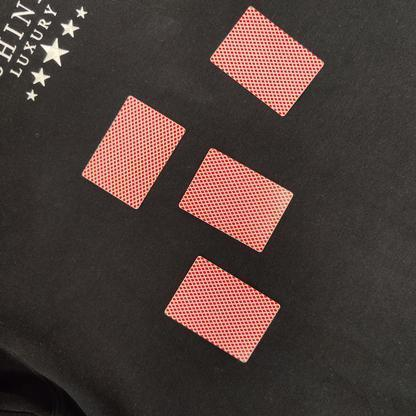card: (204, 2, 332, 125), (159, 252, 291, 370), (78, 88, 187, 222), (179, 146, 302, 255)
